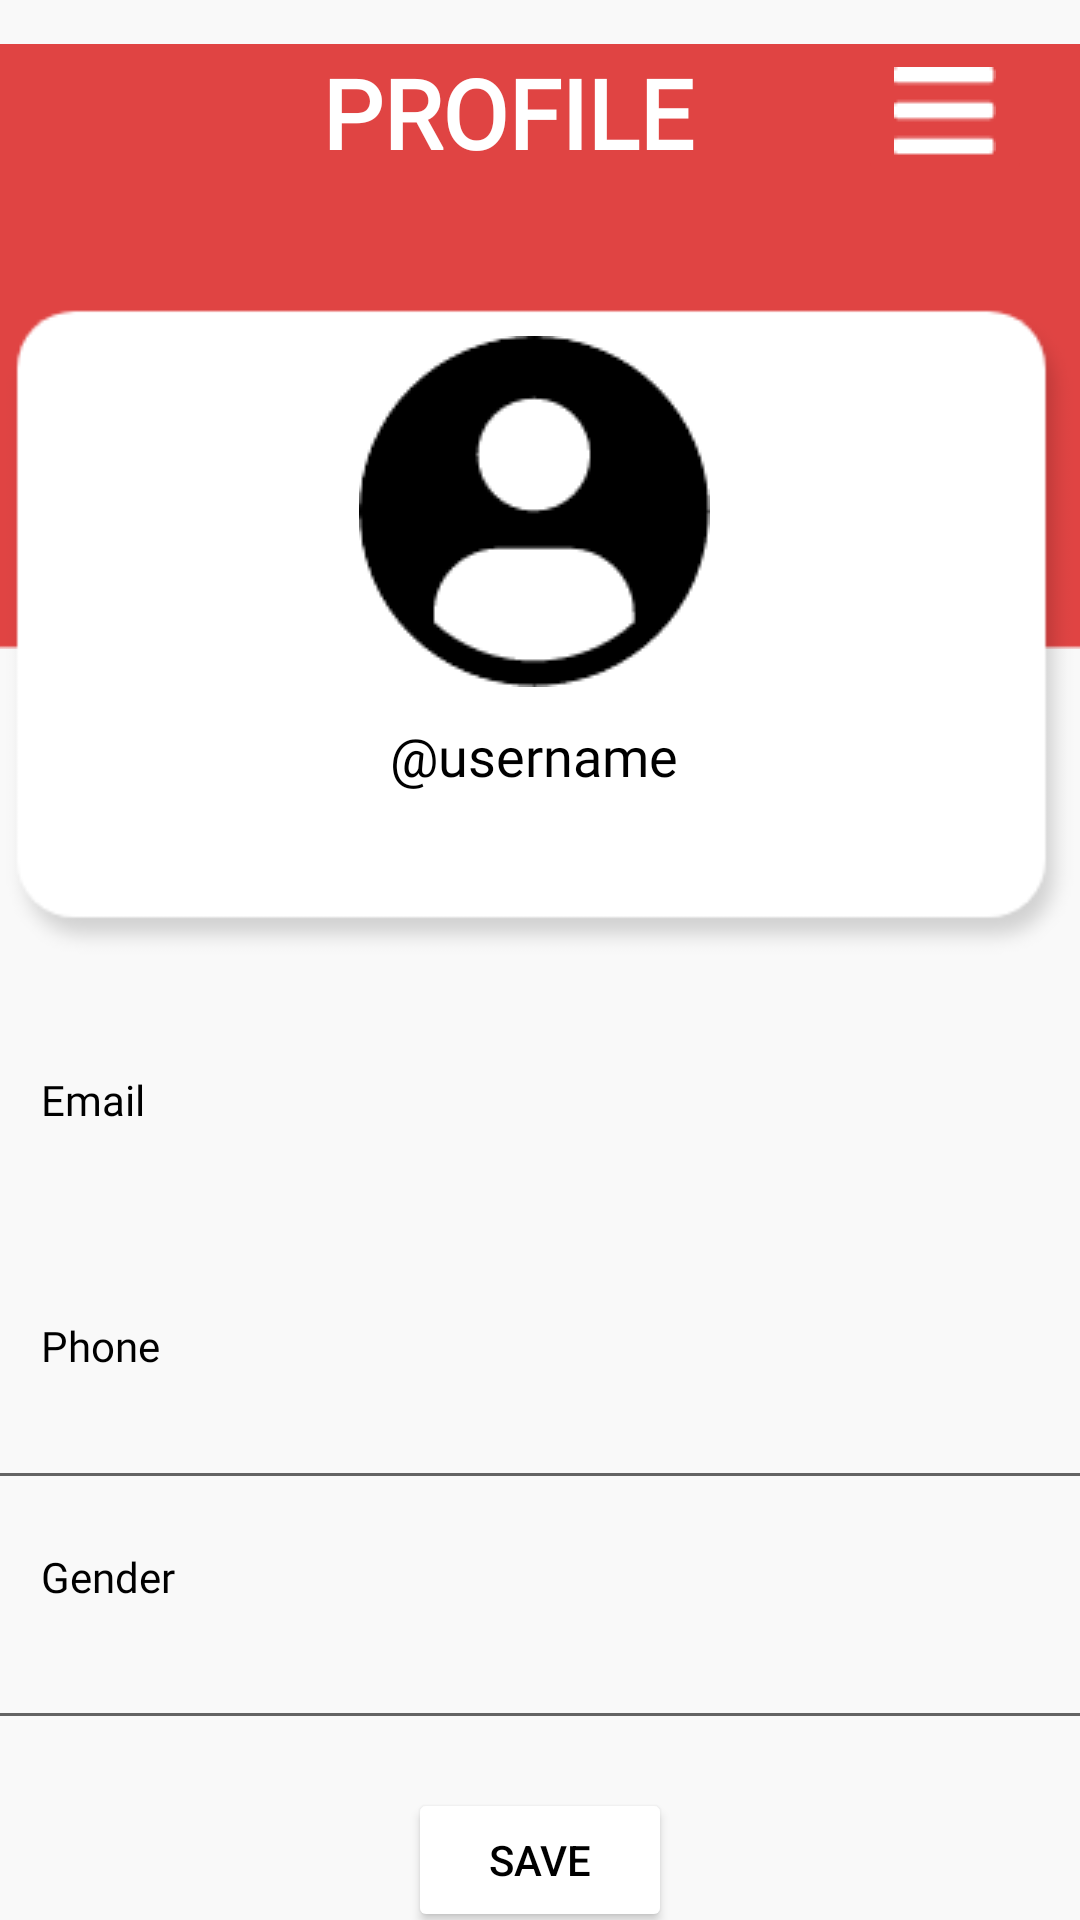

Where to tap for icons on this 1080 × 1920 app screen, as (x,y):
burger bar: (945,111)
